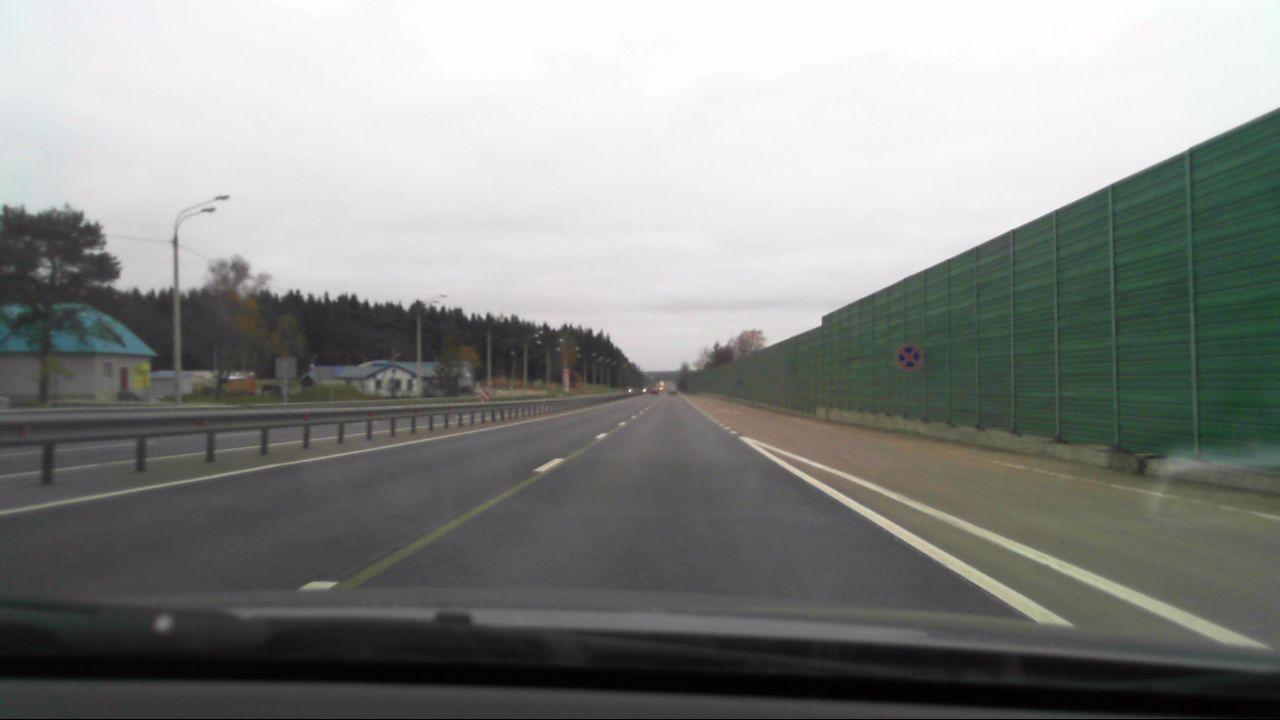3_27: (897, 347, 920, 370)
